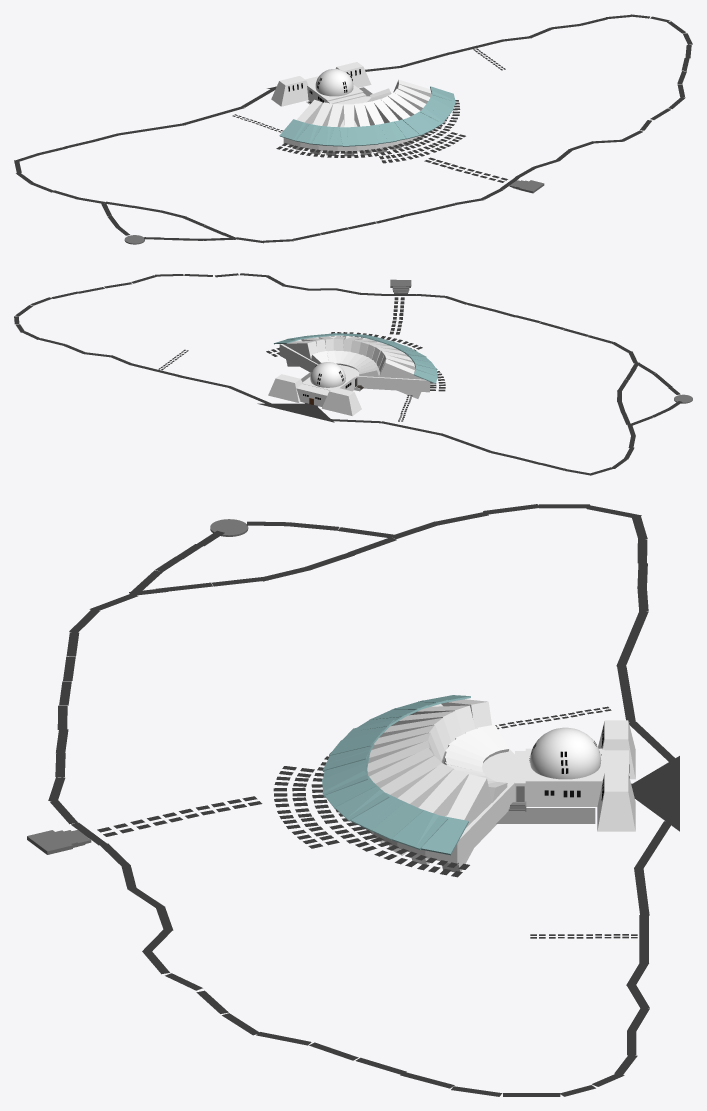
Rendered from asmundarsafn_nyasta_utgafa_8.4_11.30.obj.
3 views of the same model, one above another, from view 1: azimuth 30°, elevation 25°; view 2: azimuth 150°, elevation 25°; view 3: azimuth 270°, elevation 25° (orthographic). The views are drawn at different scales.
Visible parts, largest first — view 1: der_yfir_thaki, thak, gangstett_i_kringum_hring, syningarsalur, Sphere, h_hlid, Plane.001, v_hlid, innanhus; view 2: thak, syningarsalur, der_yfir_thaki, Plane.001, h_hlid, Sphere, v_hlid, adaldyr, gangstett_i_kringum_hring; view 3: thak, der_yfir_thaki, Plane.001, gangstett_i_kringum_hring, syningarsalur, Sphere, innanhus, v_hlid, h_hlid, gangstett_ad_vatnsbera.
Boxes of the visible parts, bbox=[...] form: der_yfir_thaki: bbox=[279, 86, 456, 146]; thak: bbox=[292, 79, 431, 156]; gangstett_i_kringum_hring: bbox=[276, 100, 465, 163]; syningarsalur: bbox=[283, 96, 427, 151]; Sphere: bbox=[315, 69, 353, 96]; h_hlid: bbox=[271, 76, 308, 106]; Plane.001: bbox=[124, 86, 544, 244]; v_hlid: bbox=[335, 62, 371, 87]; innanhus: bbox=[307, 83, 363, 102]; thak: bbox=[283, 336, 423, 398]; syningarsalur: bbox=[279, 336, 430, 392]; der_yfir_thaki: bbox=[274, 333, 437, 383]; Plane.001: bbox=[257, 279, 692, 422]; h_hlid: bbox=[322, 387, 361, 415]; Sphere: bbox=[310, 362, 345, 387]; v_hlid: bbox=[268, 374, 302, 402]; adaldyr: bbox=[296, 384, 329, 406]; gangstett_i_kringum_hring: bbox=[266, 332, 445, 391]; thak: bbox=[367, 699, 508, 872]; der_yfir_thaki: bbox=[322, 695, 470, 855]; Plane.001: bbox=[27, 519, 679, 854]; gangstett_i_kringum_hring: bbox=[273, 752, 469, 877]; syningarsalur: bbox=[366, 704, 514, 864]; Sphere: bbox=[530, 727, 601, 779]; innanhus: bbox=[525, 748, 604, 806]; v_hlid: bbox=[597, 772, 635, 831]; h_hlid: bbox=[598, 720, 635, 779]; gangstett_ad_vatnsbera: bbox=[97, 796, 262, 836].
Bounding box in the file's own units: 147 × 8.94 × 68.62.
